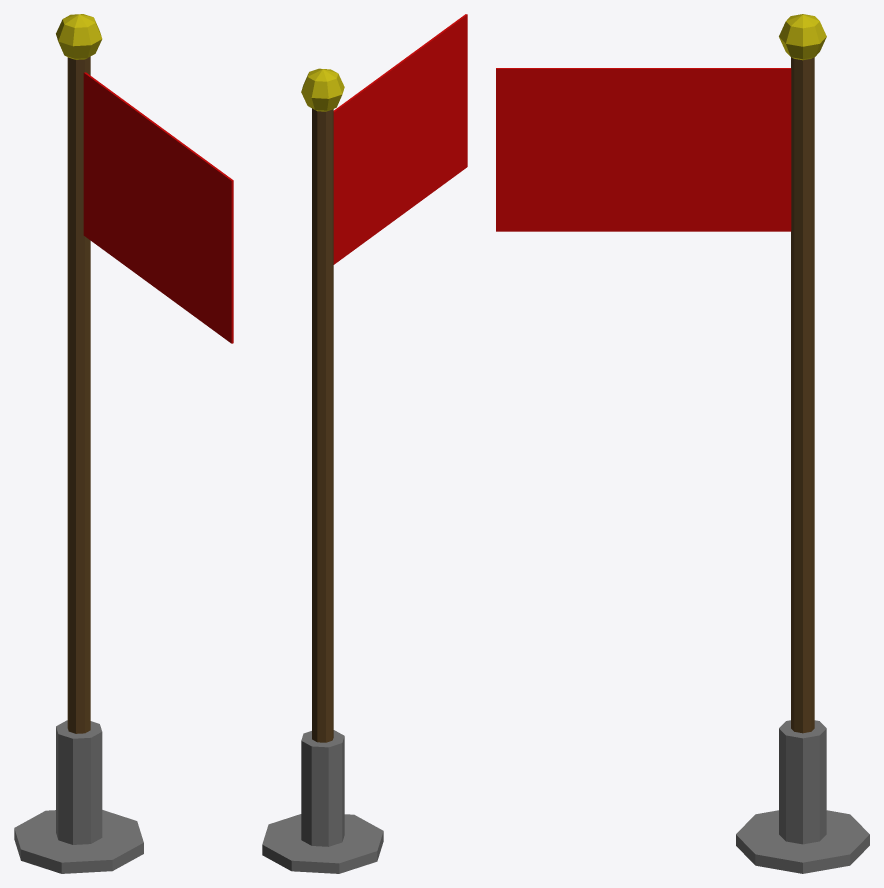
Rendered from Flag.fbx.
The picture shows the model from 3 angles, left to right: view 1: azimuth 30°, elevation 25°; view 2: azimuth 150°, elevation 25°; view 3: azimuth 270°, elevation 25°; orthographic projection. The views are drawn at different scales.
Parts seen in each view (by area): view 1: Vlag; view 2: Vlag; view 3: Vlag.
Part boxes in pixels (x1,y1,x2,y2): Vlag: [14, 14, 233, 873]; Vlag: [262, 14, 467, 873]; Vlag: [496, 14, 869, 873].
Bounding box in the file's own units: 0.4386 × 3 × 1.22.
